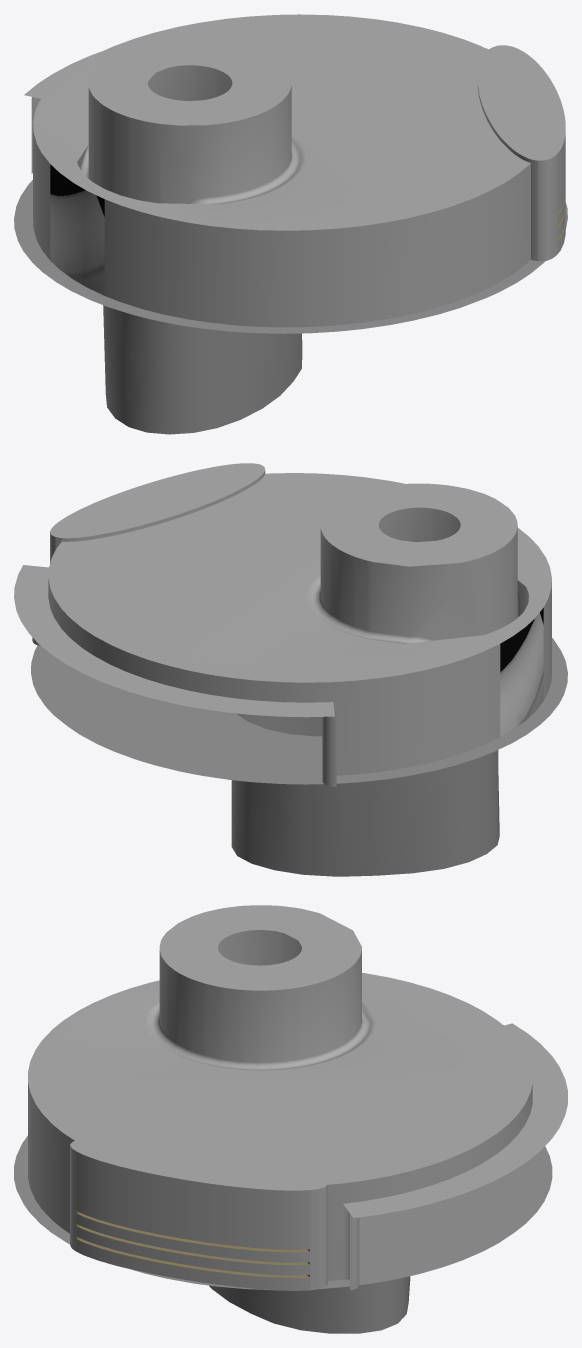
The model's file is SM_LivingRoom.fbx.
The picture shows the model from 3 angles, top to bottom: view 1: azimuth 30°, elevation 25°; view 2: azimuth 150°, elevation 25°; view 3: azimuth 270°, elevation 25°; orthographic projection. The views are drawn at different scales.
Visible parts, largest first — view 1: Ceiling, Wall, Floor1, ShelfWall; view 2: Ceiling, Floor1, Wall, ShelfWall; view 3: Ceiling, ShelfWall, Floor1, Wall, Shelf1.
Part boxes in pixels (<box>): Ceiling: <box>33,14,530,230</box>; Wall: <box>24,48,530,327</box>; Floor1: <box>14,180,567,434</box>; ShelfWall: <box>477,45,565,261</box>; Ceiling: <box>48,473,551,682</box>; Floor1: <box>31,638,567,876</box>; Wall: <box>14,565,551,786</box>; ShelfWall: <box>50,463,265,563</box>; Ceiling: <box>28,905,532,1184</box>; ShelfWall: <box>70,1138,327,1290</box>; Floor1: <box>14,1135,552,1333</box>; Wall: <box>28,1023,567,1290</box>; Shelf1: <box>76,1211,309,1277</box>.
Bounding box in the file's own units: 1640 × 1021 × 1611.
Materials: 4 (1 with a texture image).
